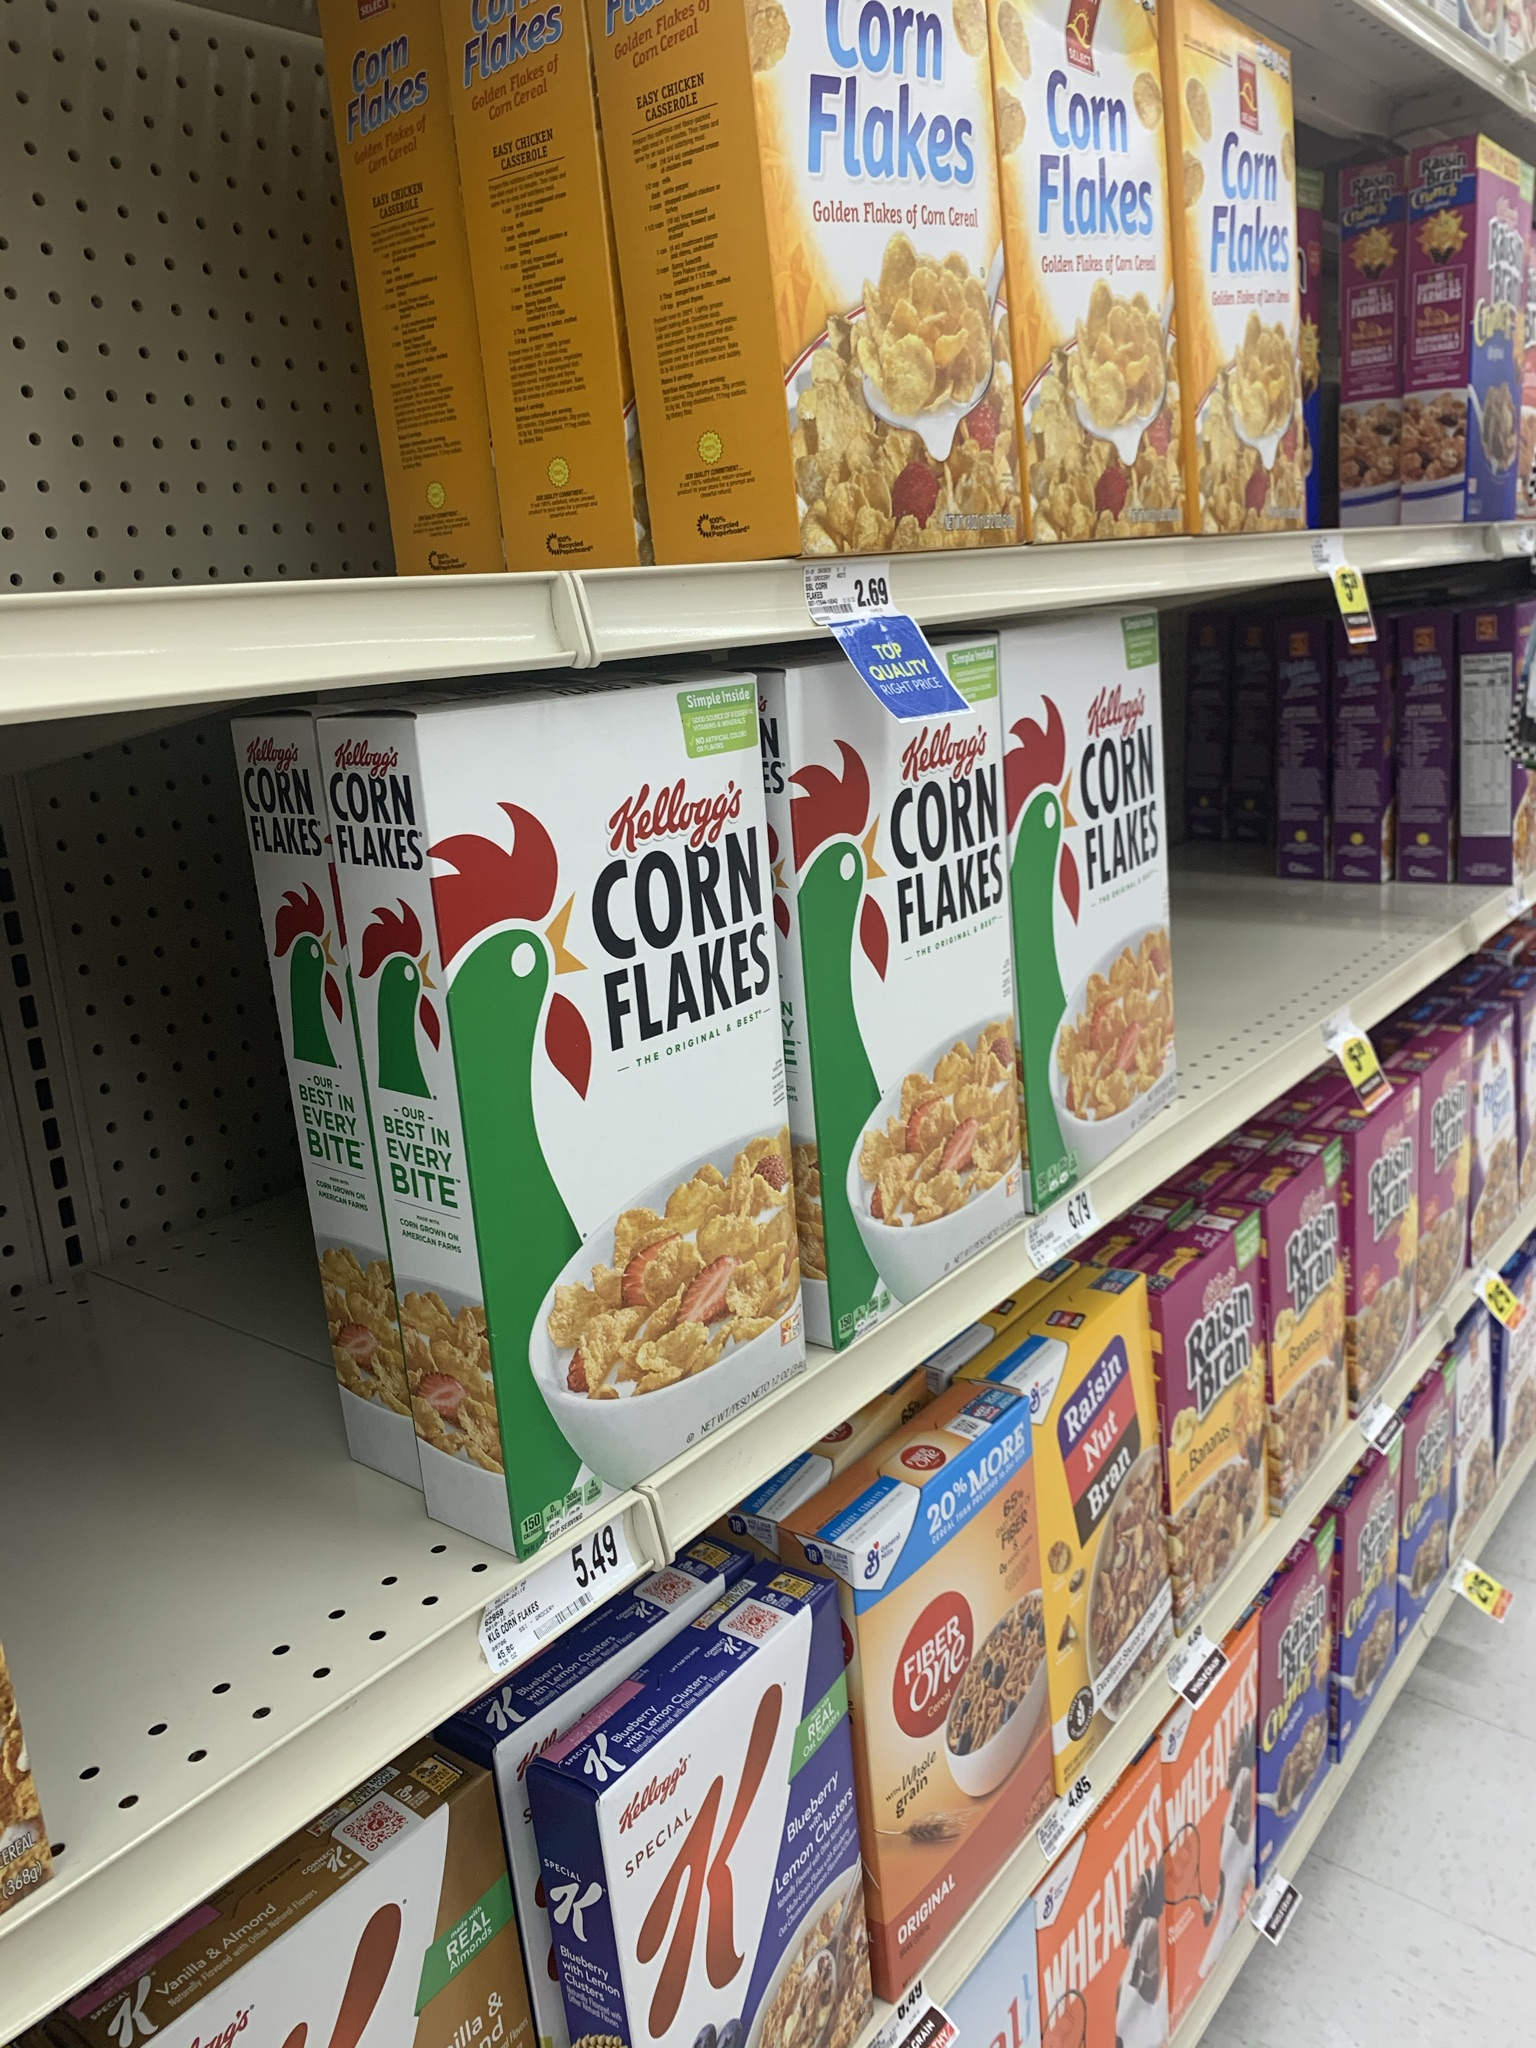box: (431, 731, 776, 1374), (762, 31, 1007, 553), (810, 734, 1021, 1230), (1025, 53, 1183, 534), (1031, 692, 1175, 1092), (1196, 65, 1297, 526)
